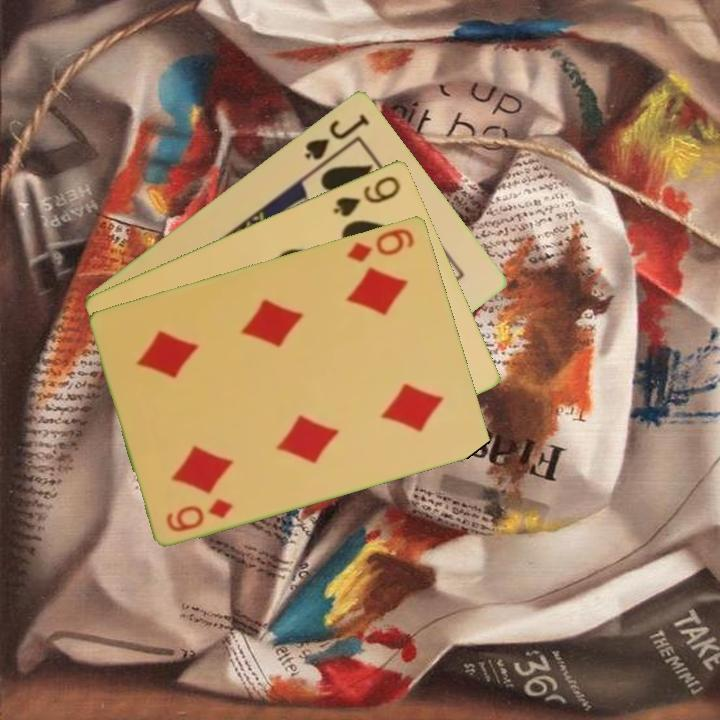6d: (343, 224, 418, 265), (162, 494, 236, 535)
9s: (329, 171, 404, 220)
Js: (300, 109, 373, 163)
